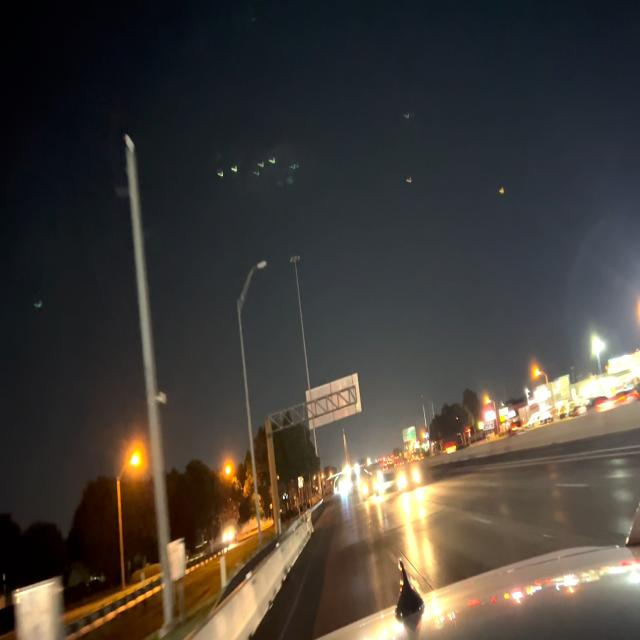back-of-sign: (304, 374, 361, 430)
